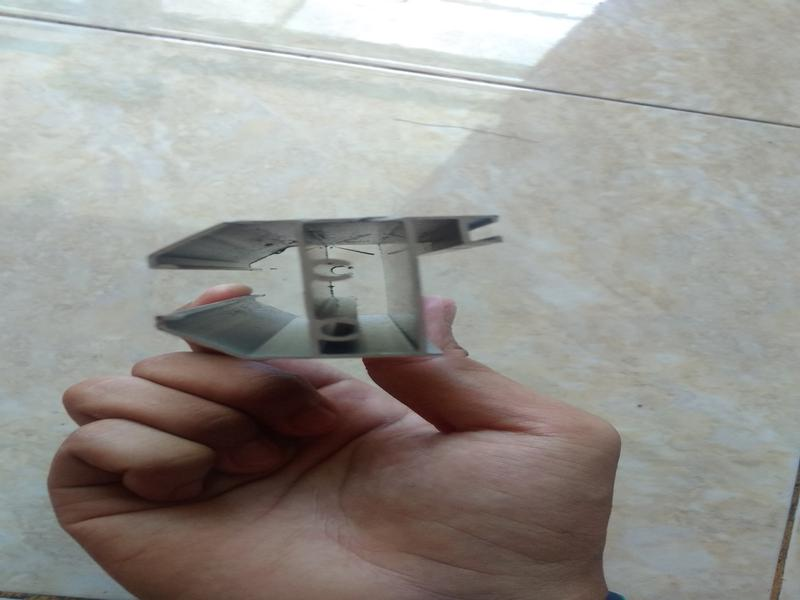Aluminium_3: (130, 197, 525, 363)
